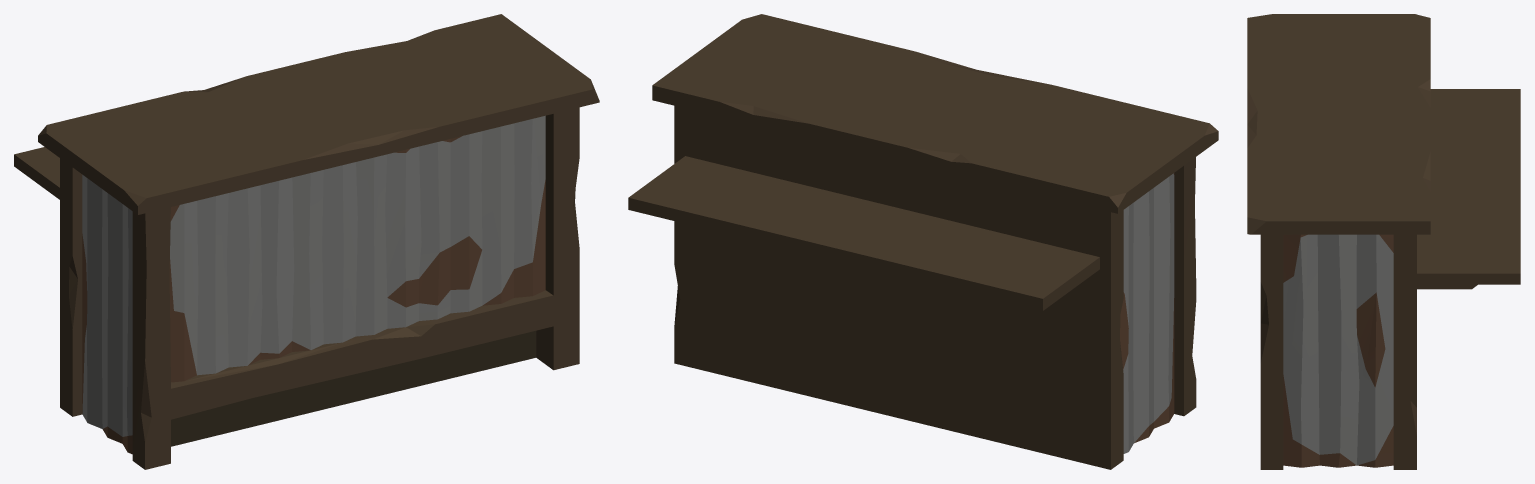
The model's file is SM_Prop_Shop_Desk_05.obj.
3 renders of one model, left to right at view 1: azimuth 30°, elevation 25°; view 2: azimuth 150°, elevation 25°; view 3: azimuth 270°, elevation 25°, orthographic. The views are drawn at different scales.
Visible parts, largest first — view 1: SM_Prop_Shop_Desk_05_0; view 2: SM_Prop_Shop_Desk_05_0; view 3: SM_Prop_Shop_Desk_05_0.
Part boxes in pixels (left/top/right/bottom): SM_Prop_Shop_Desk_05_0: left=14, top=14, right=599, bottom=469; SM_Prop_Shop_Desk_05_0: left=628, top=14, right=1218, bottom=469; SM_Prop_Shop_Desk_05_0: left=1247, top=14, right=1520, bottom=469.
Bounding box in the file's own units: 1.92 × 1.1 × 1.07.
Materials: 1 (1 with a texture image).
